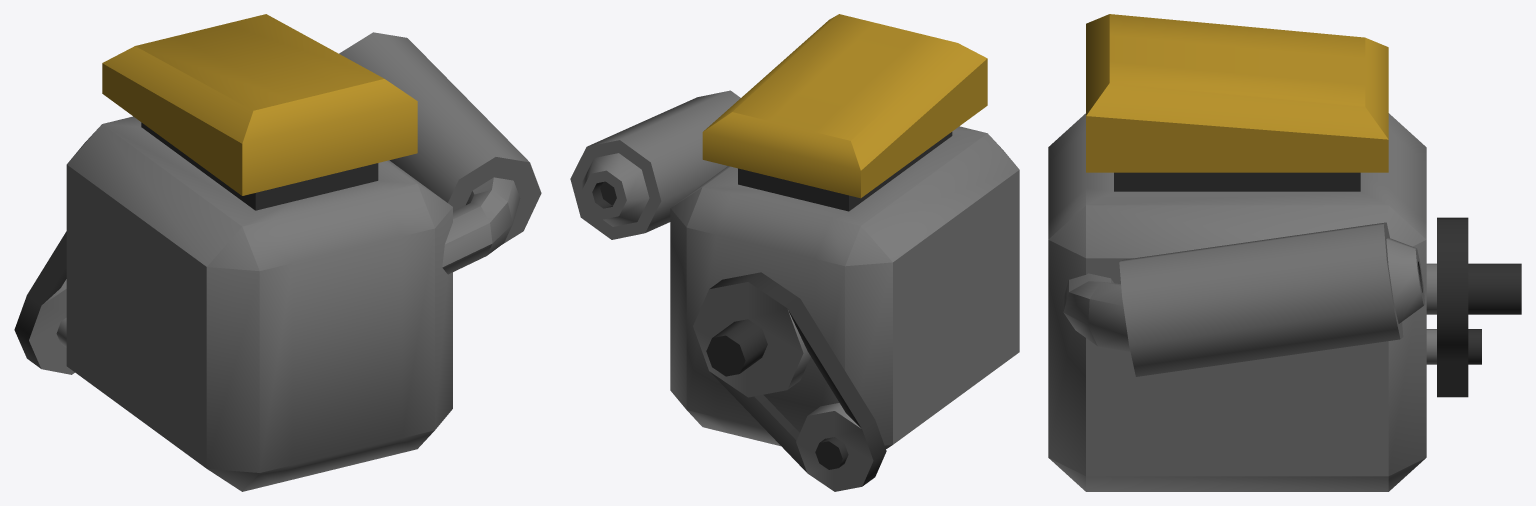
Rendered from Small_Engine_0.fbx.
3 views of the same model, side by side, from view 1: azimuth 30°, elevation 25°; view 2: azimuth 150°, elevation 25°; view 3: azimuth 270°, elevation 25° (orthographic). The views are drawn at different scales.
Visible parts, largest first — view 1: Small_Engine_0; view 2: Small_Engine_0; view 3: Small_Engine_0.
Part boxes in pixels (x1,y1,x2,y2): Small_Engine_0: (14,14,541,491); Small_Engine_0: (570,14,1019,491); Small_Engine_0: (1048,14,1521,491).
Bounding box in the file's own units: 91.99 × 87.38 × 94.4.
